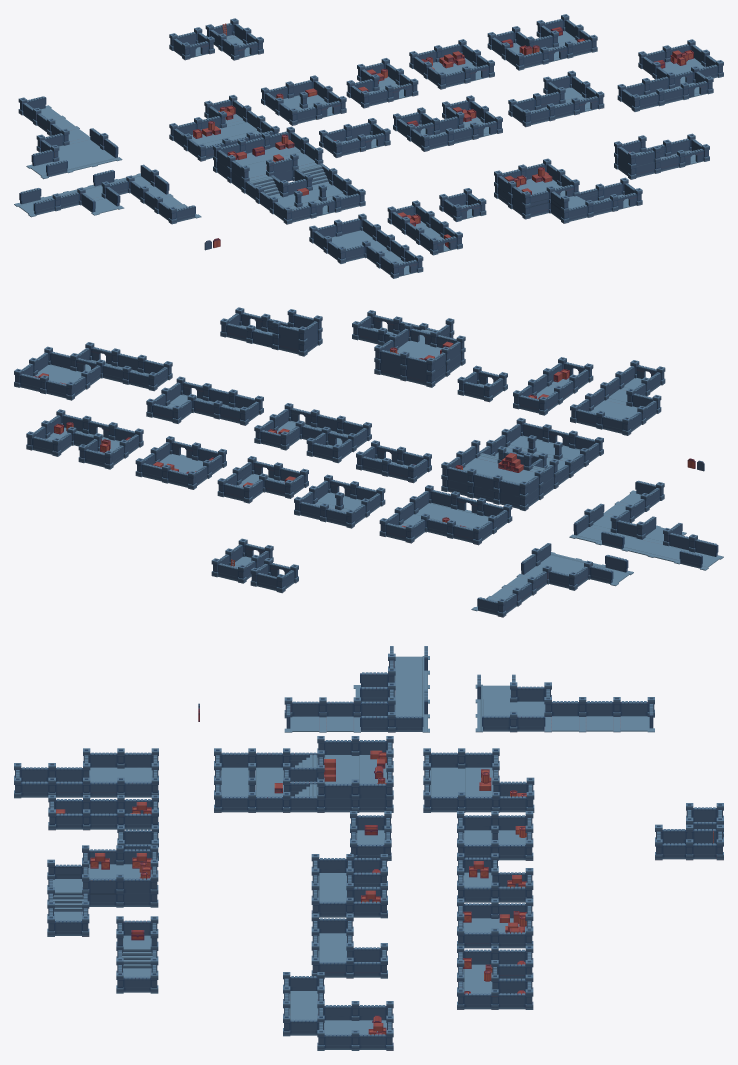
File: ExportedRooms.dae
The picture shows the model from 3 angles, top to bottom: view 1: azimuth 30°, elevation 25°; view 2: azimuth 150°, elevation 25°; view 3: azimuth 270°, elevation 25°; orthographic projection. The views are drawn at different scales.
Parts seen in each view (by area): view 1: Room6, Room14, Hallway2, Hallway1, Room10, Room11, Room8, Room5, Room1, Room9, Room15, Room2 (+7 smaller); view 2: Room6, Hallway2, Room14, Room10, Room1, Hallway1, Room11, Room8, Room5, Room9, Room15, Room2 (+7 smaller); view 3: Room6, Hallway2, Hallway1, Room14, Room11, Room10, Room1, Room5, Room8, Room9, Room2, Room12 (+7 smaller).
Part boxes in pixels (left/top/right/bottom): Room6: left=213, top=126, right=365, bottom=224; Room14: left=494, top=158, right=642, bottom=223; Hallway2: left=14, top=164, right=201, bottom=224; Hallway1: left=18, top=96, right=122, bottom=179; Room10: left=617, top=39, right=723, bottom=111; Room11: left=309, top=213, right=423, bottom=278; Room8: left=393, top=95, right=502, bottom=151; Room5: left=487, top=14, right=597, bottom=70; Room1: left=169, top=95, right=279, bottom=161; Room9: left=508, top=70, right=604, bottom=127; Room15: left=614, top=133, right=709, bottom=179; Room2: left=261, top=75, right=346, bottom=125; Room6: left=441, top=417, right=603, bottom=510; Hallway2: left=569, top=480, right=723, bottom=570; Room14: left=352, top=310, right=465, bottom=387; Room10: left=14, top=342, right=172, bottom=400; Room1: left=379, top=485, right=512, bottom=545; Hallway1: left=471, top=543, right=633, bottom=617; Room11: left=570, top=360, right=665, bottom=435; Room8: left=254, top=403, right=371, bottom=463; Room5: left=26, top=409, right=143, bottom=469; Room9: left=146, top=376, right=263, bottom=425; Room15: left=220, top=307, right=322, bottom=356; Room2: left=294, top=474, right=385, bottom=528; Room6: left=214, top=736, right=393, bottom=812; Hallway2: left=284, top=646, right=429, bottom=732; Hallway1: left=475, top=674, right=654, bottom=732; Room14: left=47, top=845, right=158, bottom=936; Room11: left=14, top=748, right=158, bottom=798; Room10: left=283, top=972, right=393, bottom=1050; Room1: left=423, top=748, right=534, bottom=812; Room5: left=457, top=945, right=533, bottom=1009; Room8: left=311, top=854, right=387, bottom=918; Room9: left=311, top=914, right=387, bottom=978; Room2: left=457, top=811, right=533, bottom=860; Room12: left=48, top=795, right=158, bottom=830.
Size of the model in its own units: 1002 by 39 by 763.
Materials: 1 (1 with a texture image).
